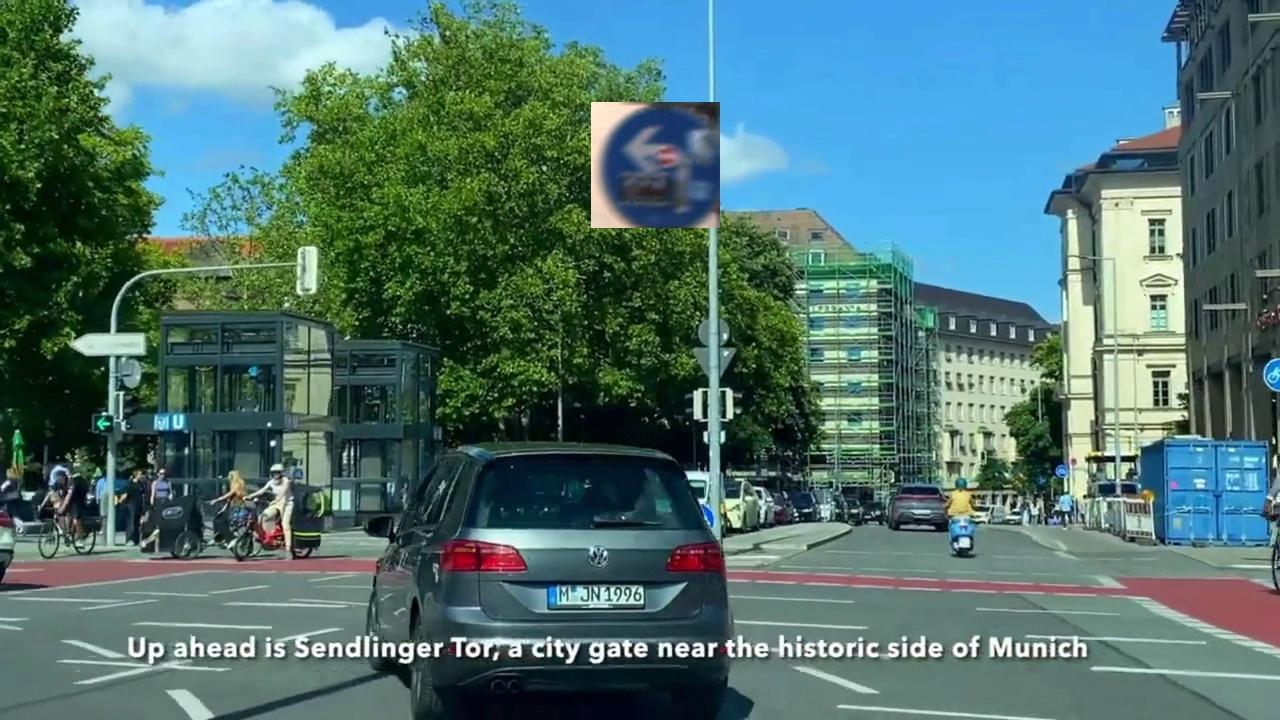Turn left: (591, 102, 720, 228)
